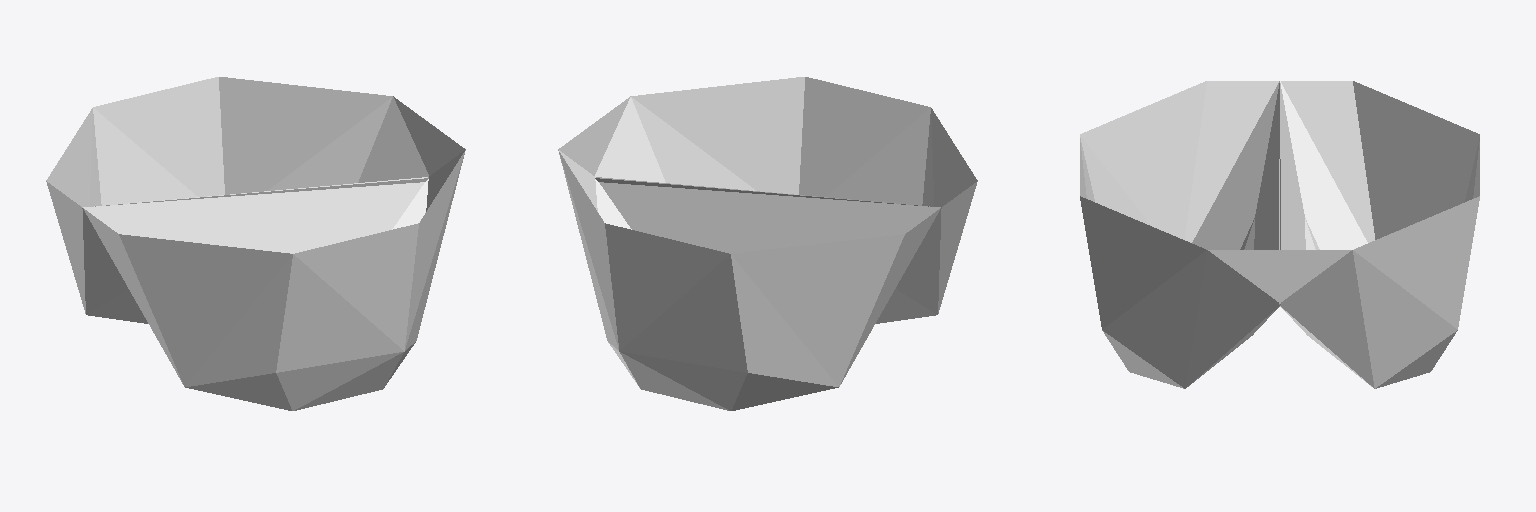
File: pants.obj
The picture shows the model from 3 angles: view 1: azimuth 30°, elevation 25°; view 2: azimuth 150°, elevation 25°; view 3: azimuth 270°, elevation 25°; orthographic projection.
Parts seen in each view (by area): view 1: Pants_Cube.024; view 2: Pants_Cube.024; view 3: Pants_Cube.024.
Boxes of the visible parts, <box> form: Pants_Cube.024: <box>46,77,465,410</box>; Pants_Cube.024: <box>558,77,977,410</box>; Pants_Cube.024: <box>1080,81,1479,388</box>.
Bounding box in the file's own units: 0.7831 × 0.3916 × 0.7831.